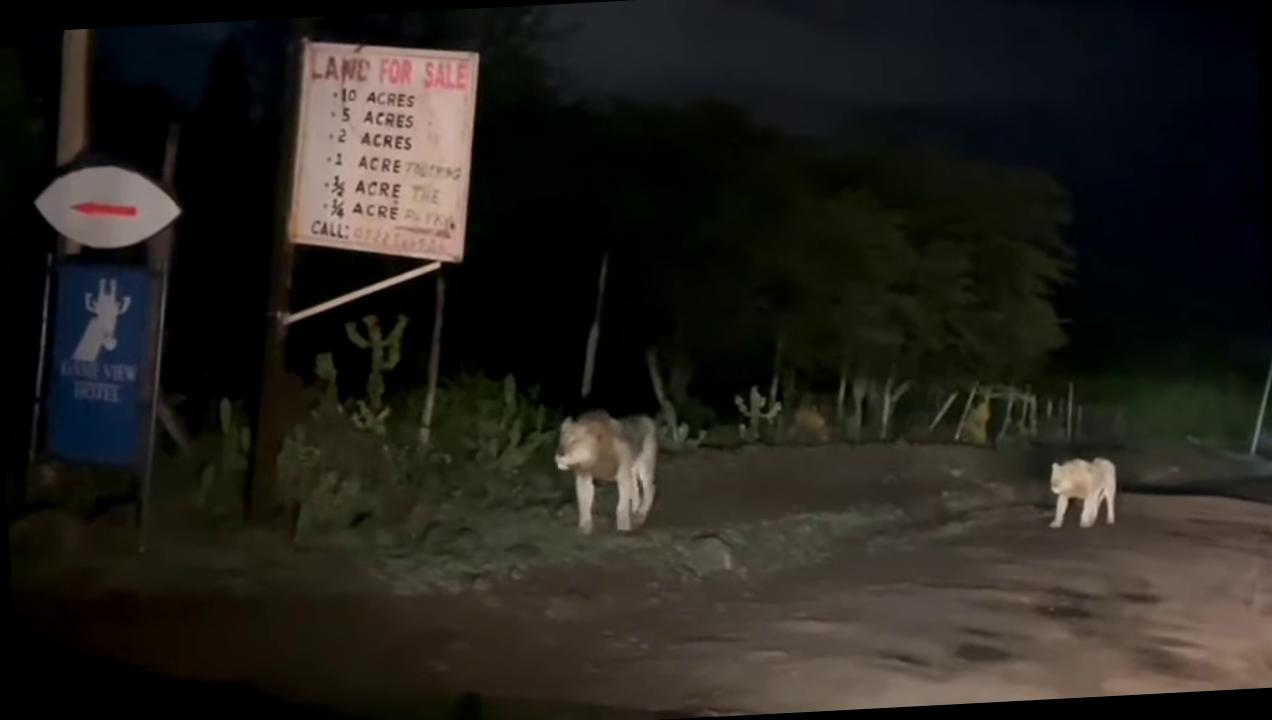lions: (549, 410, 697, 556), (1034, 429, 1132, 544)
